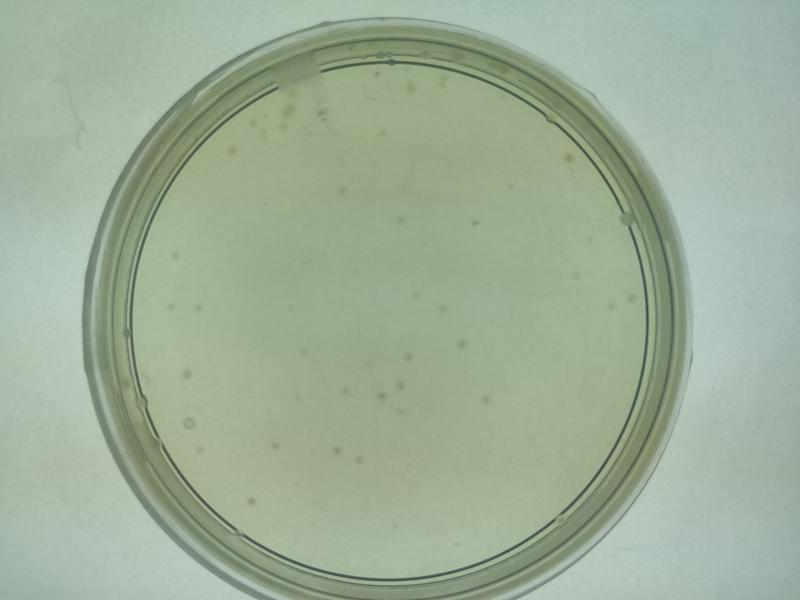colony: (389, 211, 410, 230), (326, 437, 345, 458), (167, 245, 184, 265), (397, 347, 417, 363), (334, 181, 351, 199), (475, 392, 494, 408), (190, 299, 206, 318), (466, 215, 482, 233), (434, 302, 450, 319), (178, 366, 194, 383), (351, 451, 367, 468), (267, 437, 283, 453), (454, 335, 469, 352), (244, 495, 259, 512)
